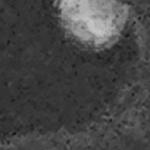colony: (47, 0, 134, 58)
